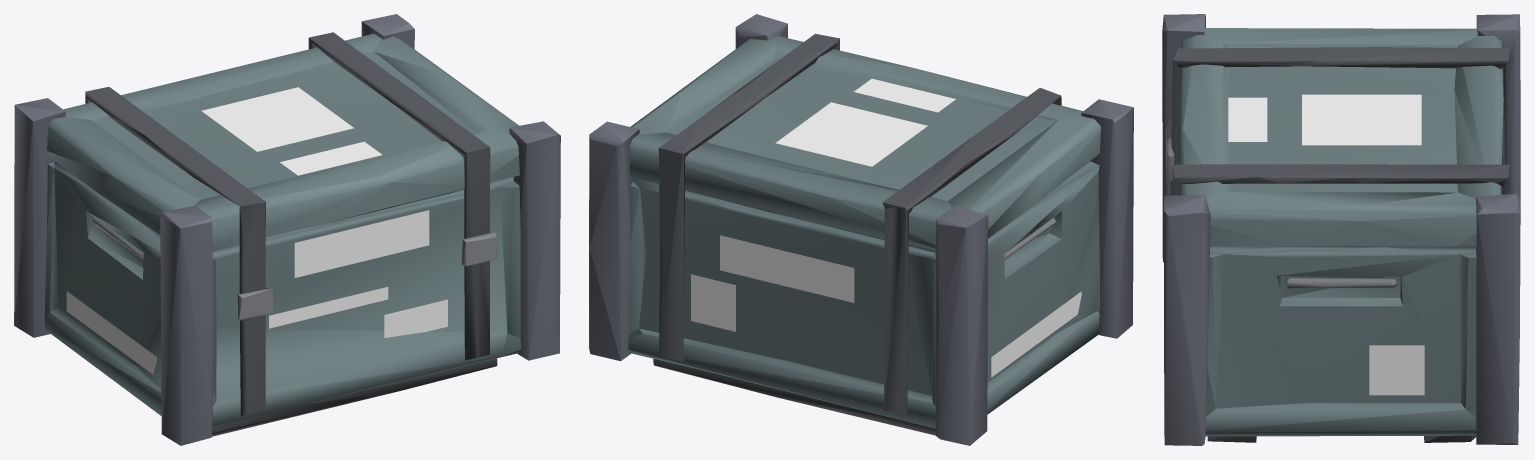
The model's file is caisse_m_c.glb.
3 renders of one model, left to right at view 1: azimuth 30°, elevation 25°; view 2: azimuth 150°, elevation 25°; view 3: azimuth 270°, elevation 25°, orthographic. The views are drawn at different scales.
Parts seen in each view (by area): view 1: caisse_m_c, caisse_m_c_decal; view 2: caisse_m_c, caisse_m_c_decal; view 3: caisse_m_c, caisse_m_c_decal.
Part boxes in pixels (x1,y1,x2,y2): caisse_m_c: [14, 14, 560, 445]; caisse_m_c_decal: [66, 87, 447, 374]; caisse_m_c: [589, 14, 1133, 445]; caisse_m_c_decal: [691, 78, 1081, 377]; caisse_m_c: [1162, 14, 1520, 445]; caisse_m_c_decal: [1228, 94, 1424, 395].
Bounding box in the file's own units: 1.03 × 0.6187 × 0.7784.
